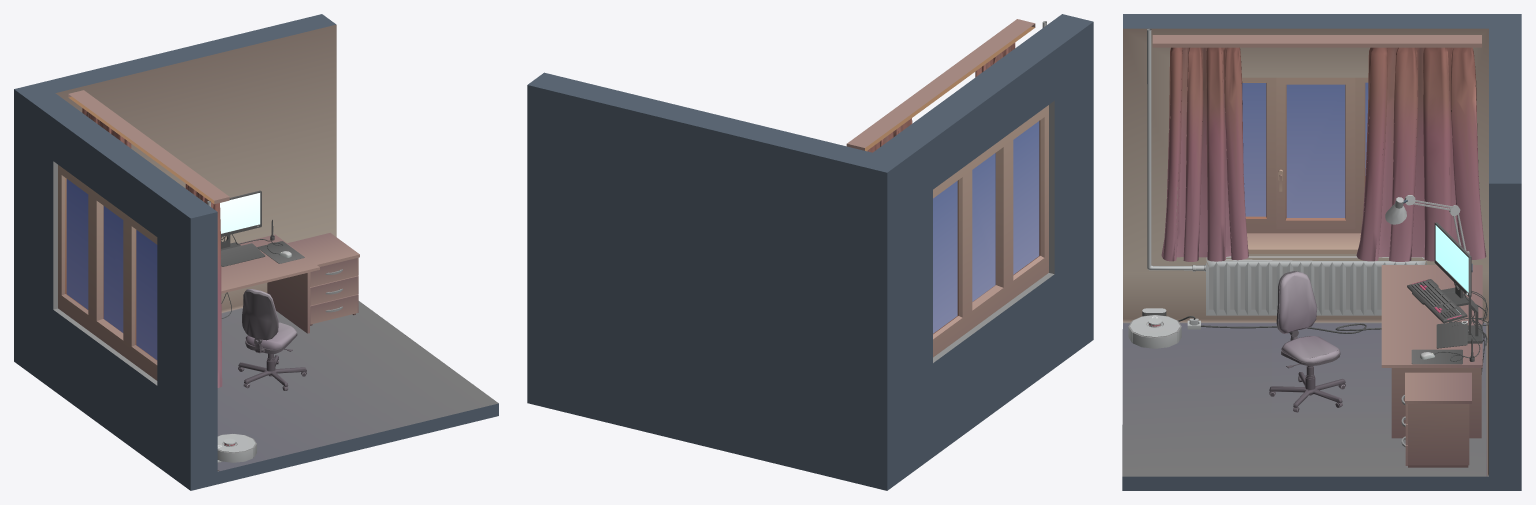
Rendered from optimized-room.glb.
The picture shows the model from 3 angles, left to right: view 1: azimuth 30°, elevation 25°; view 2: azimuth 150°, elevation 25°; view 3: azimuth 270°, elevation 25°; orthographic projection. The views are drawn at different scales.
Parts seen in each view (by area): view 1: _________6_blinn1_0, window4_phong1_0, emis_lambert1_0; view 2: _________6_blinn1_0, window4_phong1_0; view 3: _________6_blinn1_0, window4_phong1_0, emis_lambert1_0.
Part boxes in pixels (x1,y1,x2,y2): _________6_blinn1_0: (14, 14, 498, 490); window4_phong1_0: (66, 179, 157, 359); emis_lambert1_0: (218, 193, 281, 447); _________6_blinn1_0: (527, 14, 1093, 490); window4_phong1_0: (933, 121, 1039, 333); _________6_blinn1_0: (1122, 14, 1521, 490); window4_phong1_0: (1242, 82, 1368, 217); emis_lambert1_0: (1152, 225, 1468, 353).
Size of the model in its own units: 6.68 by 5.66 by 6.65.
